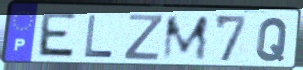7: (214, 14, 250, 64)
E: (34, 11, 79, 61)
L: (83, 13, 116, 59)
M: (160, 14, 211, 62)
Q: (254, 16, 291, 63)
Z: (121, 12, 166, 62)
